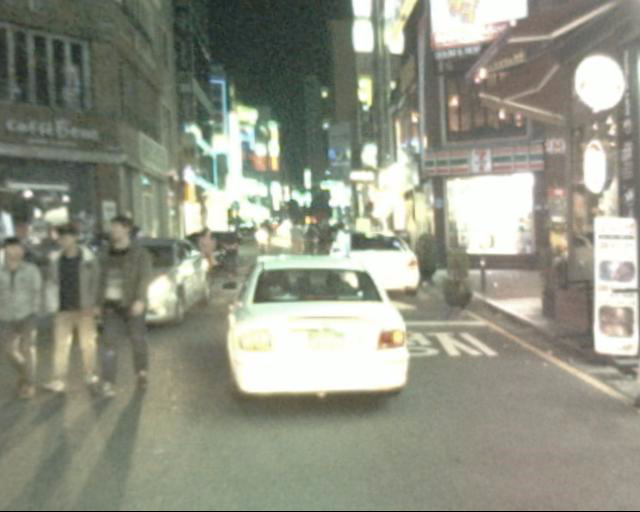person: (82, 211, 138, 419), (52, 225, 103, 398), (0, 236, 47, 397)
